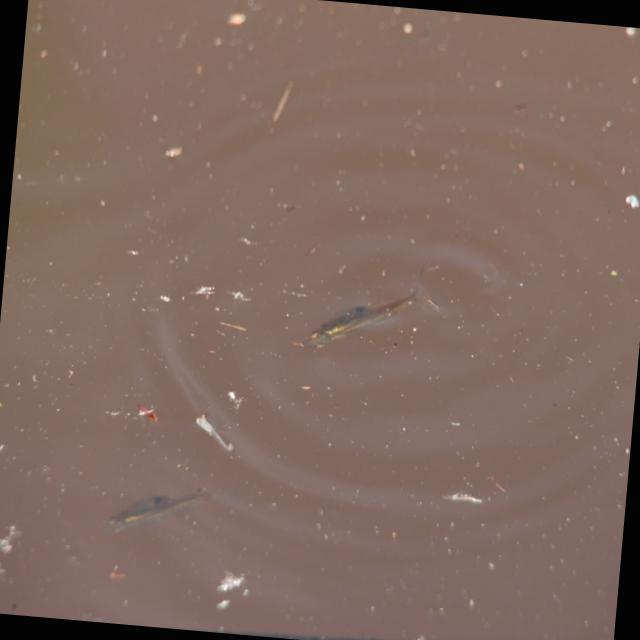Sivrisinek Baligi: (99, 468, 218, 560), (304, 273, 420, 366)
